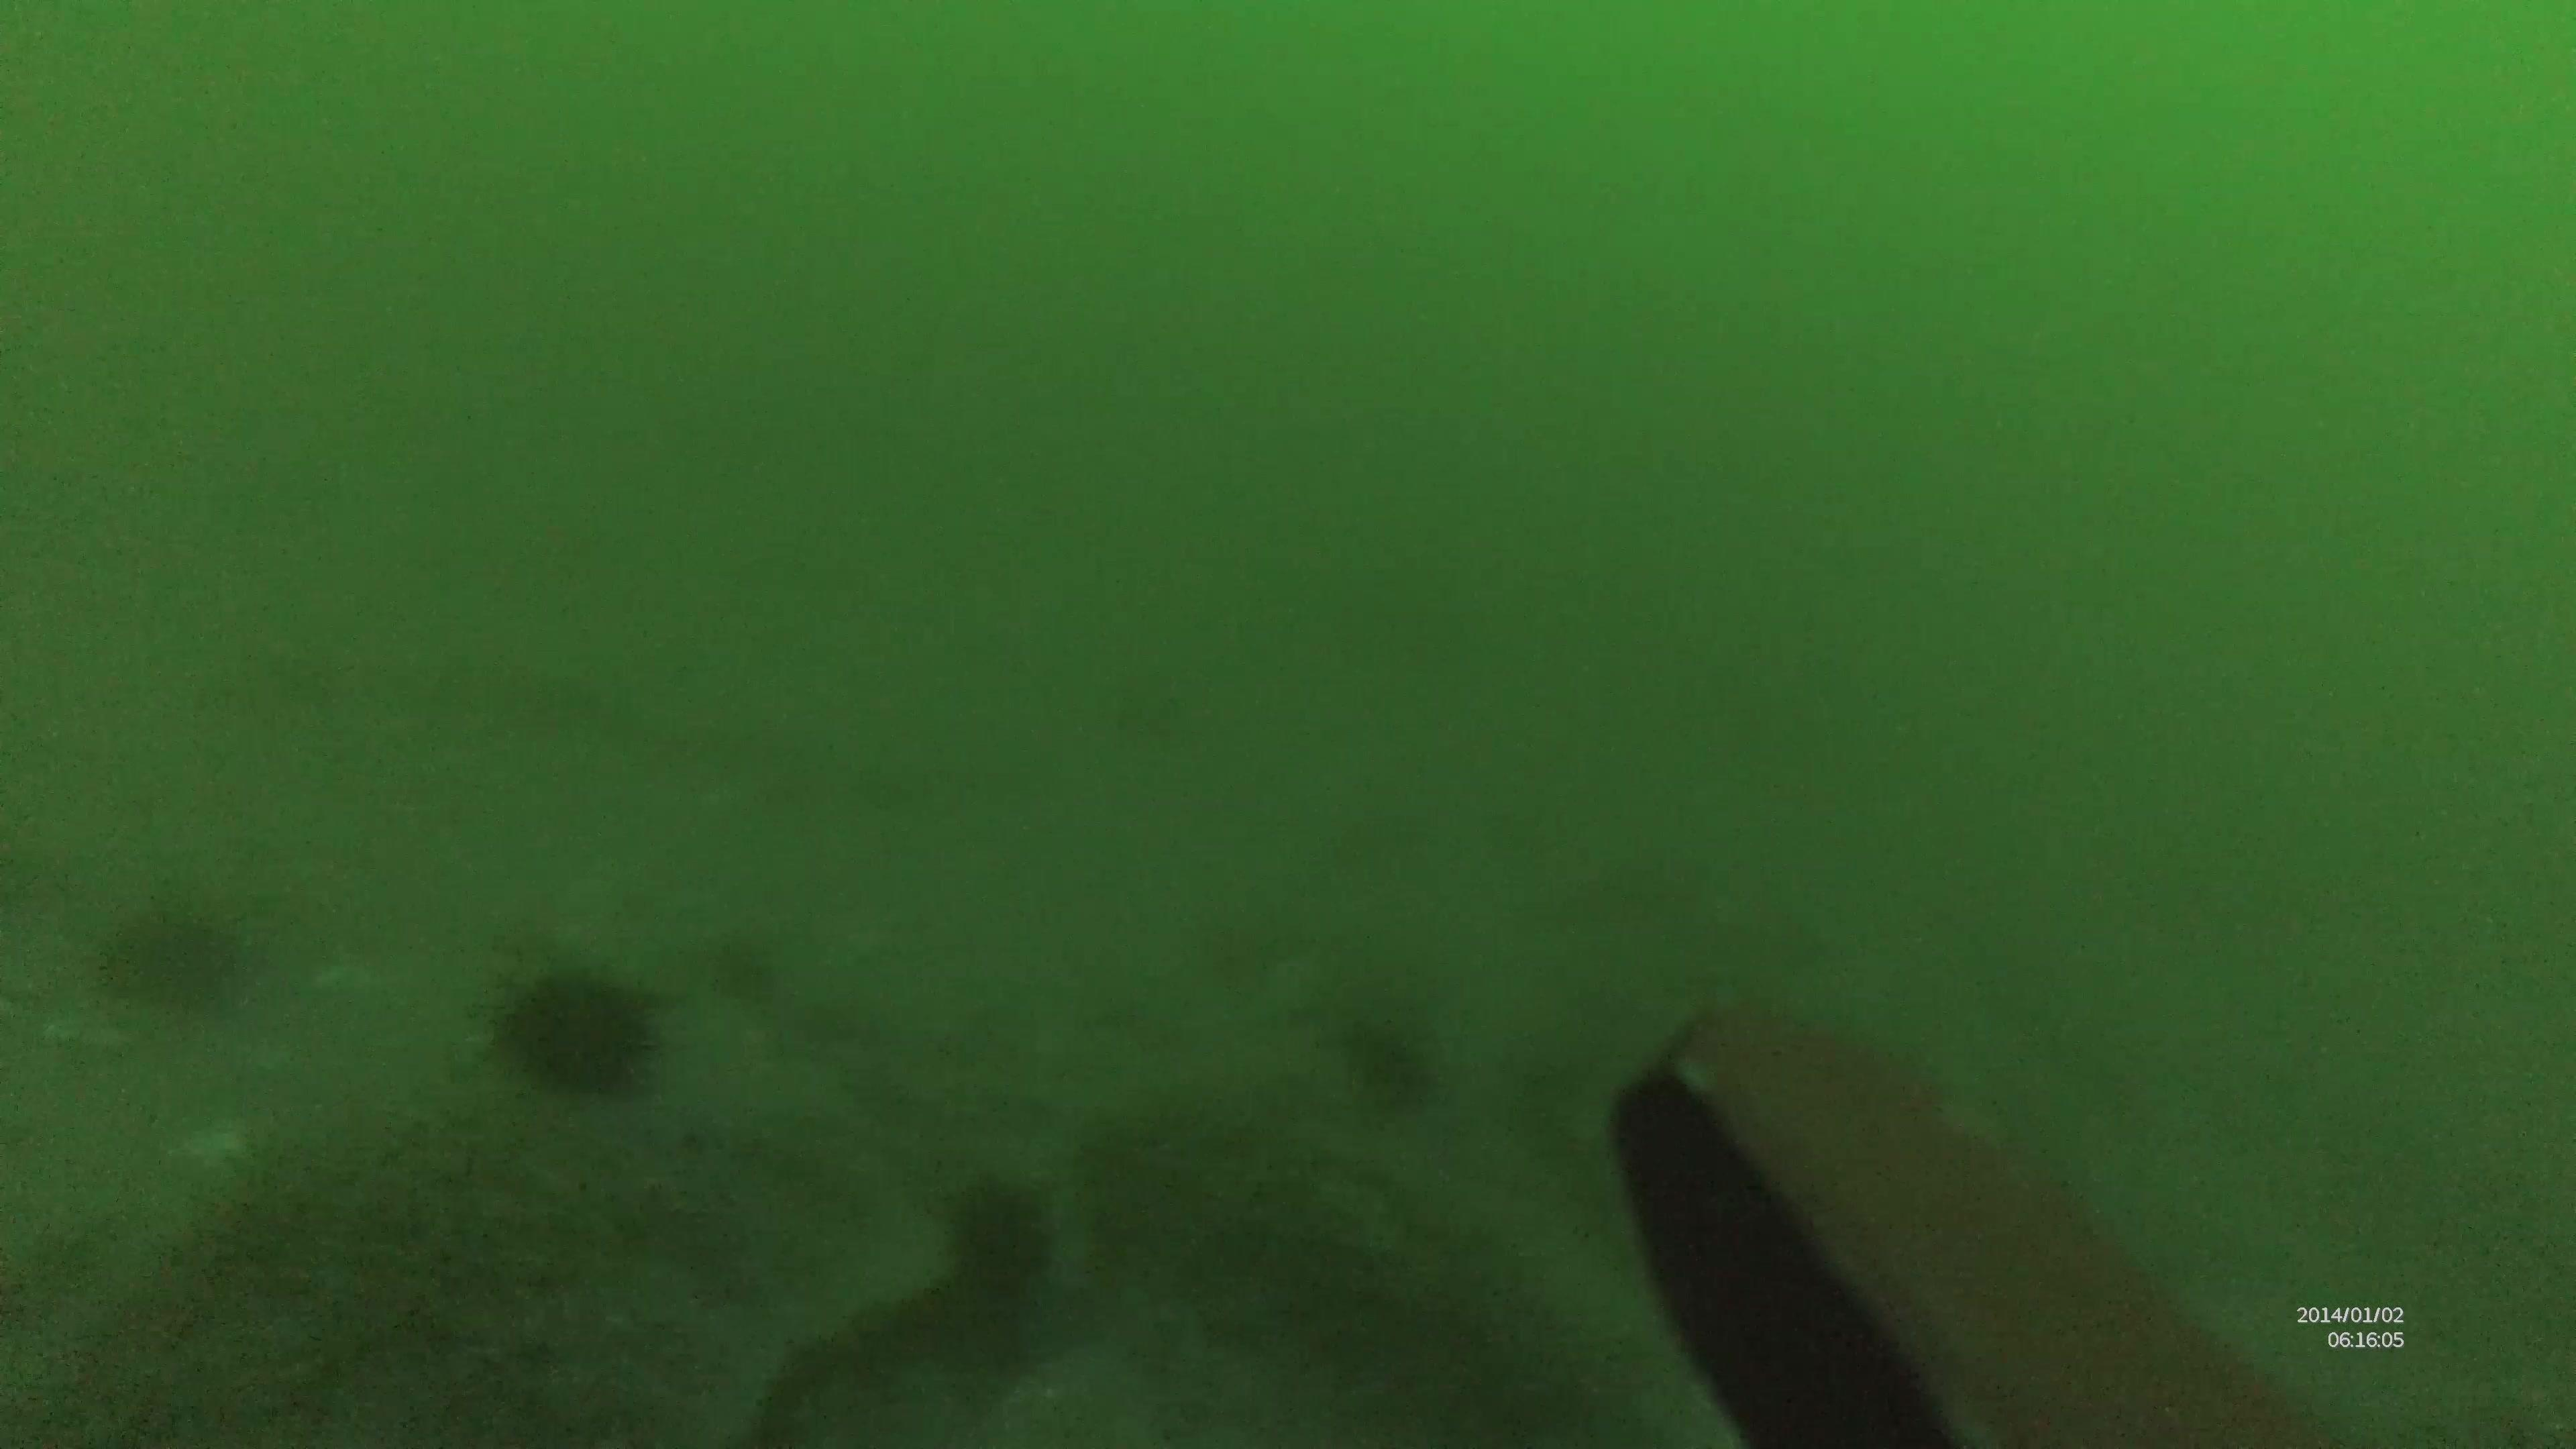echinus: (490, 973, 651, 1085), (90, 902, 235, 1008)
